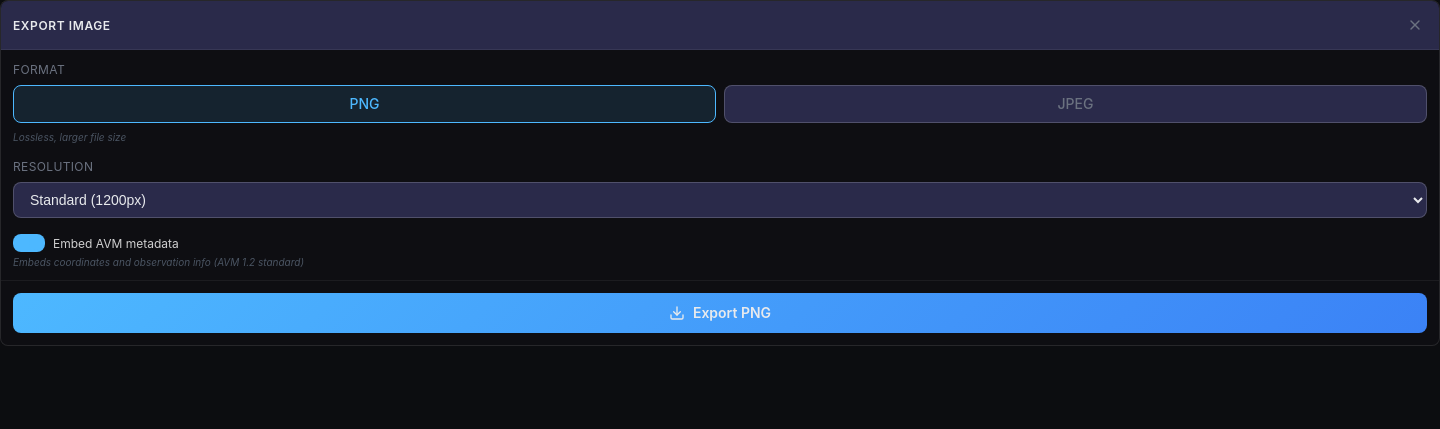
Test: ExportOptionsPanel › shows custom dimension inputs when custom resolution selected
Step 1. Select "Custom" in the dropdown showing "Standard (1200px)" → [720, 200], box x1=13 y1=182 x2=1427 y2=218
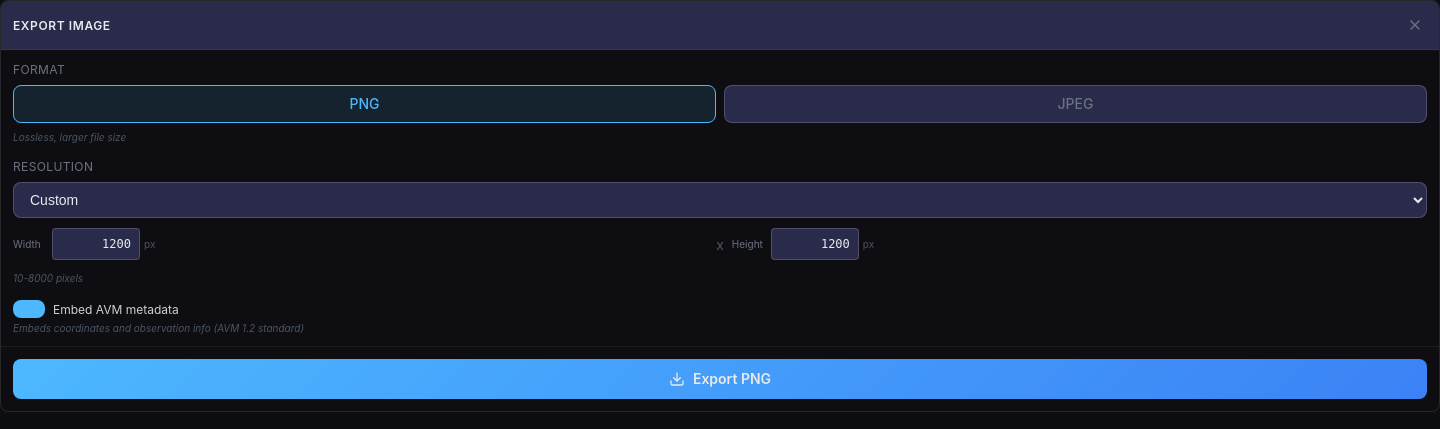
Now the text "Width" is shown, box x1=13 y1=238 x2=41 y2=250
Now the text "Height" is shown, box x1=732 y1=238 x2=767 y2=250
